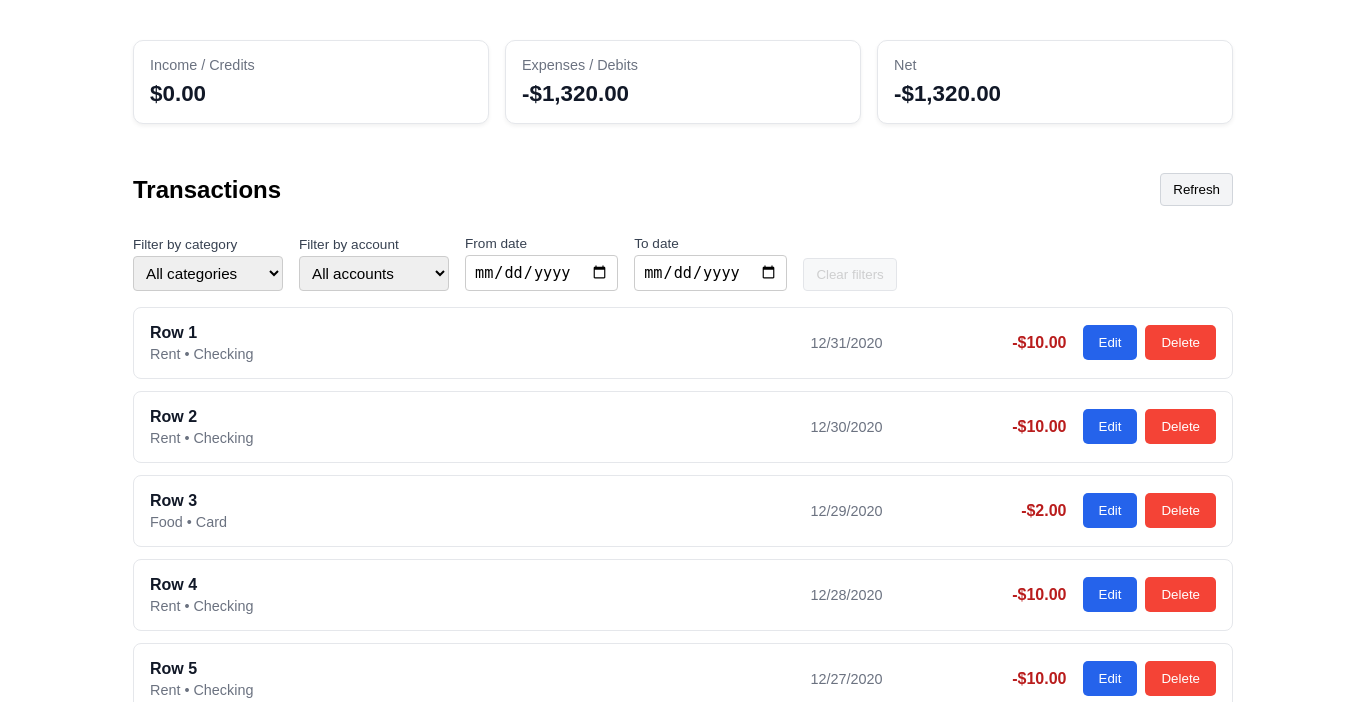
Test case: filtering › does not list a transaction the filter excludes, but says it was saved
Select "Food" in the dropdown labelled "Filter by category" at (208, 273), box [133, 256, 283, 291]
(page scrolled)
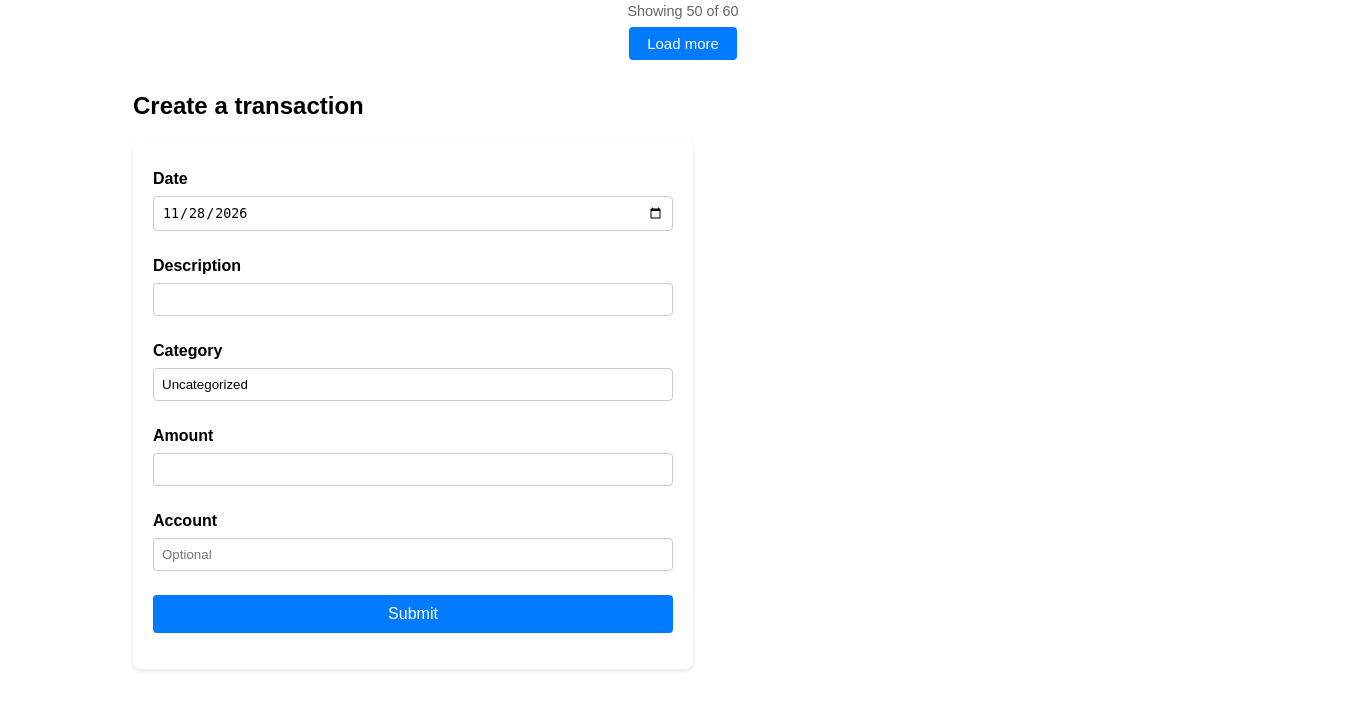
Check: the text "Showing 50 of 60" is shown, box [627, 3, 739, 19]
Replace the text in the field labelled "Category" with "Rent" at (413, 384), box [153, 368, 673, 401]
Type "January rent" into the field labelled "Description" at (413, 300), box [153, 283, 673, 316]
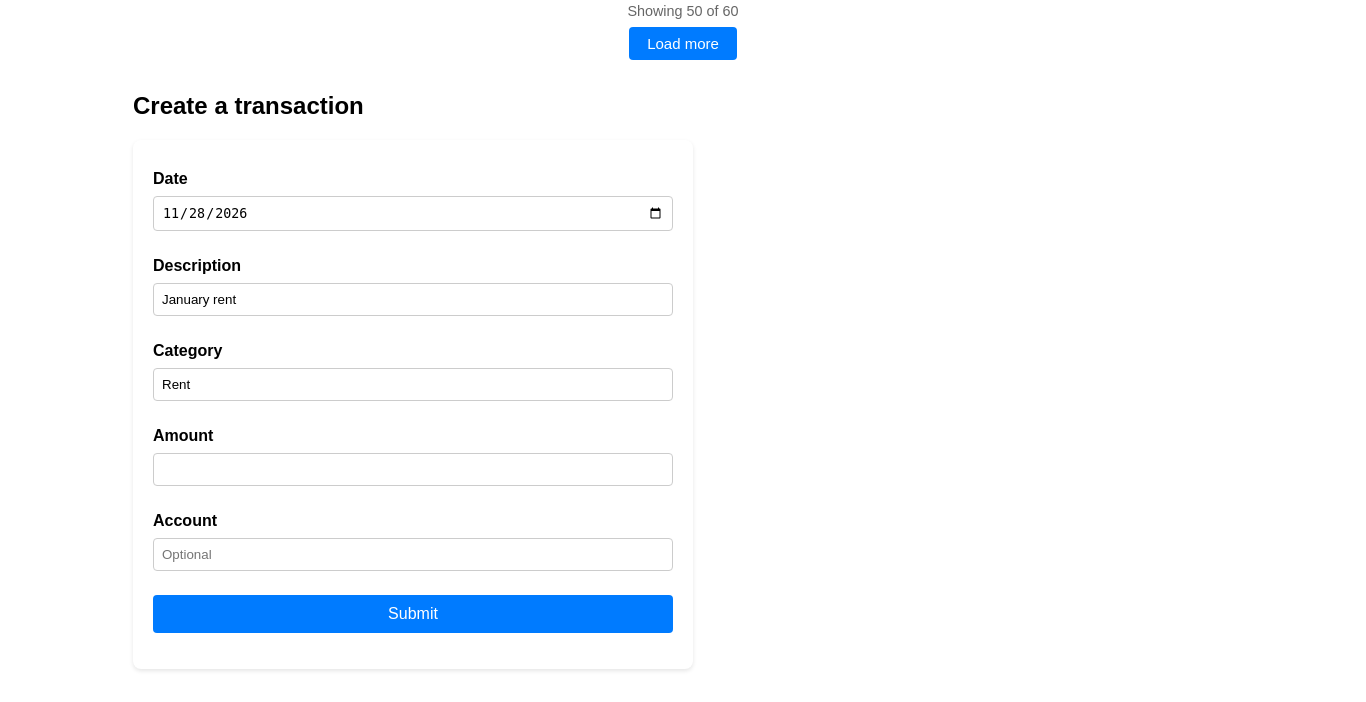
Type "-10.00" into the number field labelled "Amount" at (413, 470), box [153, 453, 673, 486]
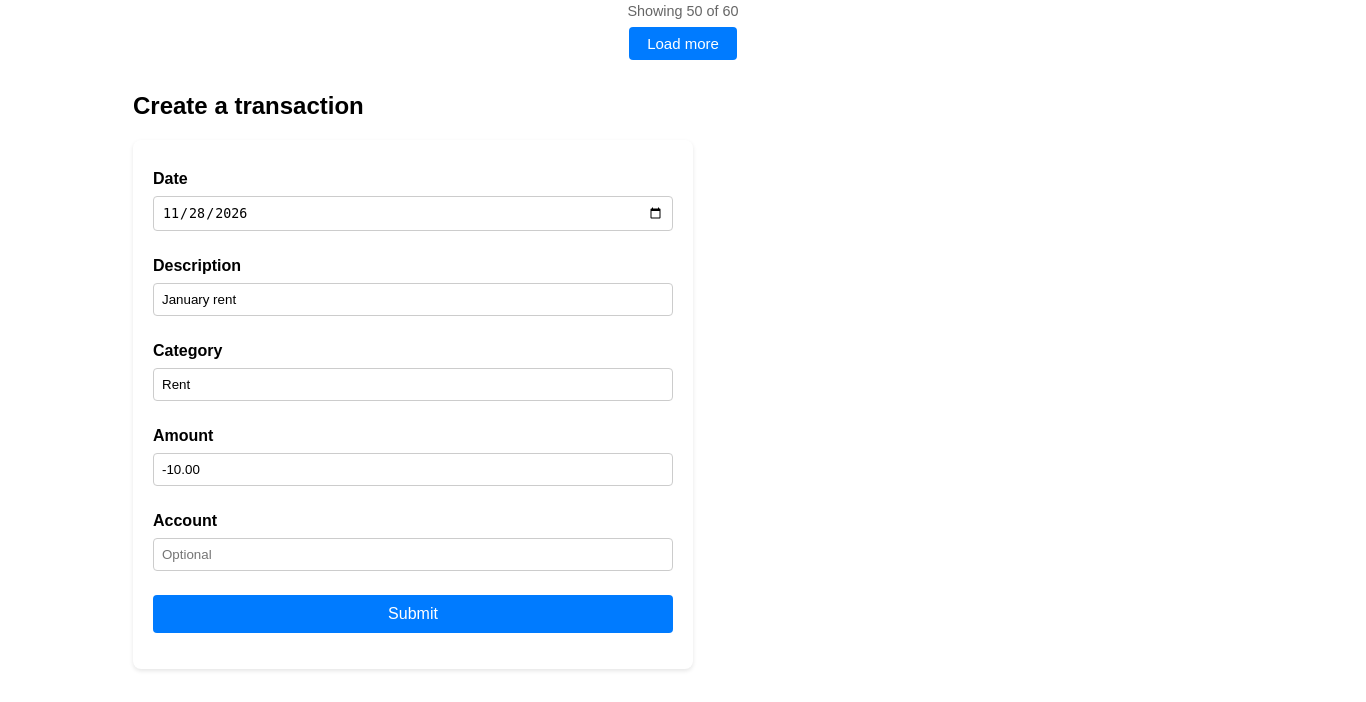
Click the button "Submit" at (413, 614), box [153, 595, 673, 633]
(page scrolled)
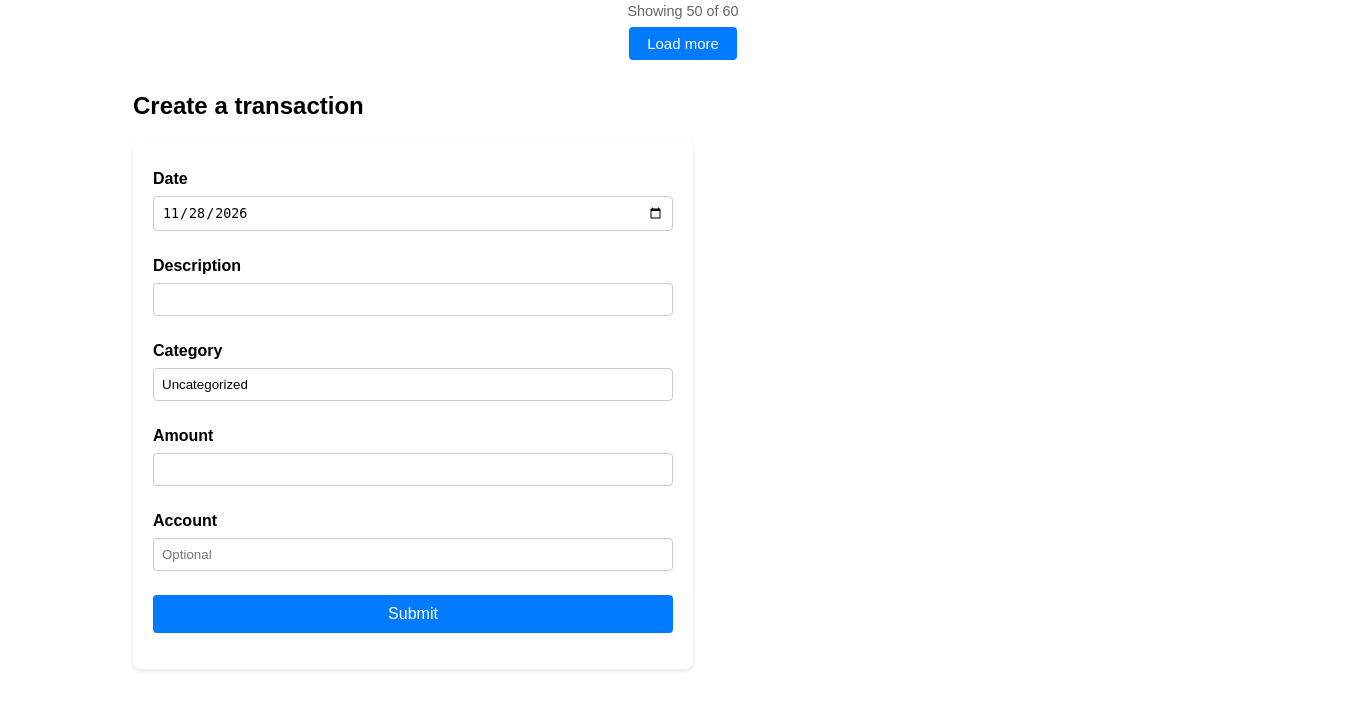
Click the button "Load more" at (683, 43), box [629, 27, 737, 60]
(page scrolled)
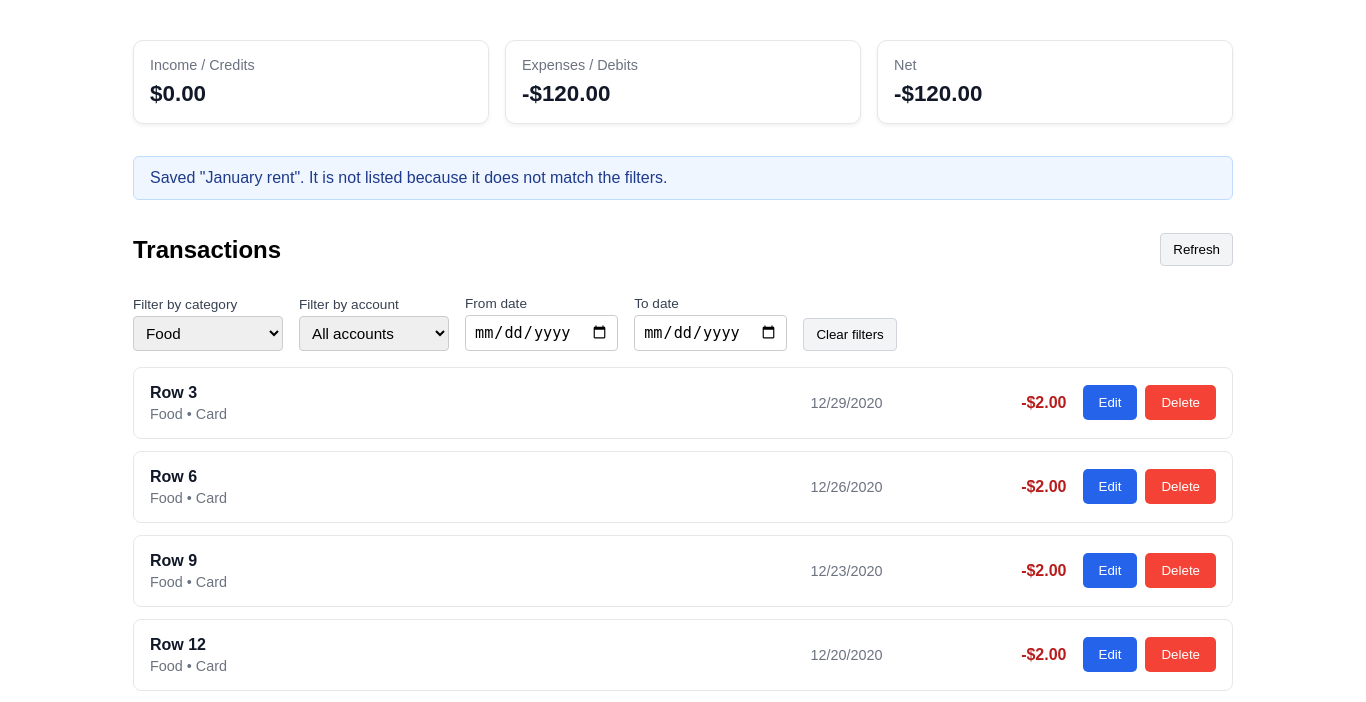
Click the button "Clear filters" at (850, 334), box [803, 318, 897, 351]
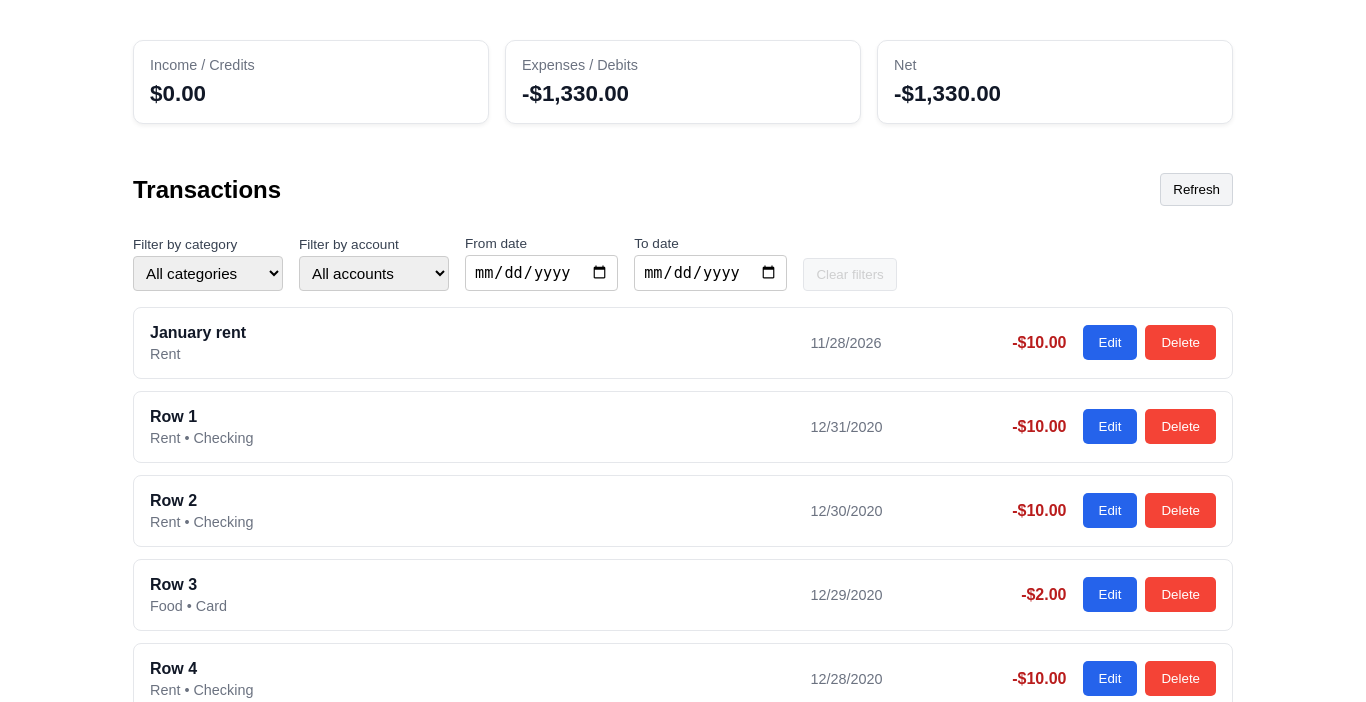
Check: the text with class "transaction-description" reads "January rent", box [150, 324, 246, 341]
Check: the text "It is not listed" is gone
